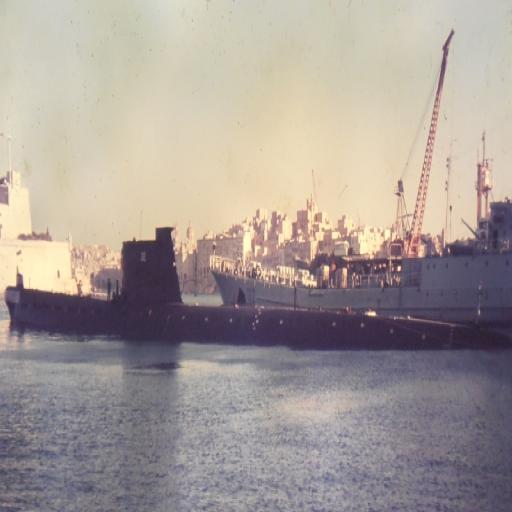submarine: (2, 225, 486, 355)
